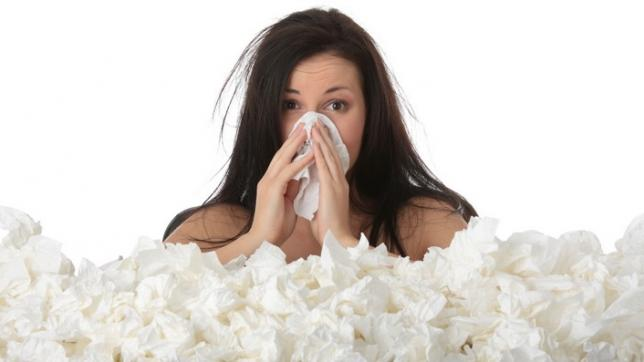Tissue: (1, 263, 644, 362)
